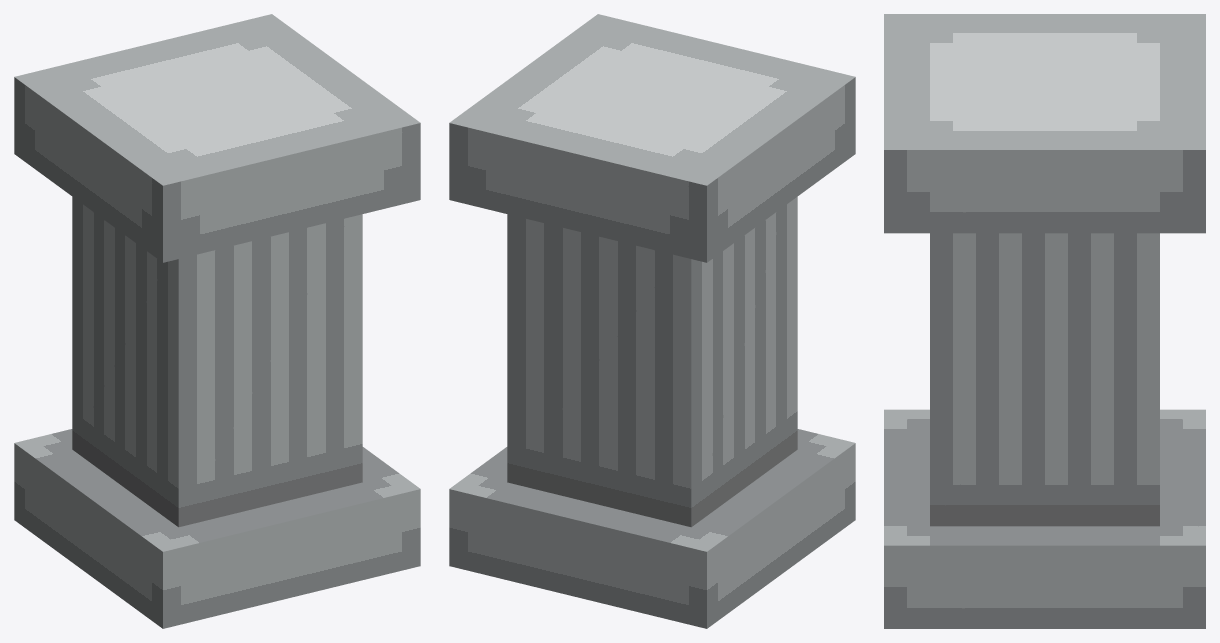
Rendered from Pedestal.fbx.
3 views of the same model, side by side, from view 1: azimuth 30°, elevation 25°; view 2: azimuth 150°, elevation 25°; view 3: azimuth 270°, elevation 25° (orthographic). The views are drawn at different scales.
Visible parts, largest first — view 1: cuboid; view 2: cuboid; view 3: cuboid.
Part boxes in pixels (left/top/right/bottom): cuboid: left=14, top=14, right=420, bottom=628; cuboid: left=449, top=14, right=855, bottom=628; cuboid: left=884, top=14, right=1205, bottom=628.
Bounding box in the file's own units: 87.5 × 144 × 87.5.
Materials: 1 (1 with a texture image).
